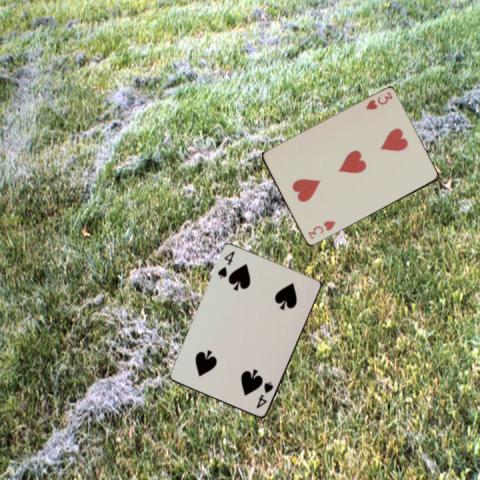3h: (305, 218, 337, 241), (363, 90, 394, 112)
4s: (253, 379, 275, 410), (214, 249, 236, 280)
